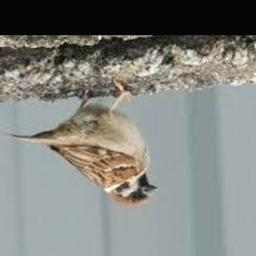Sparrow: (6, 82, 159, 206)
